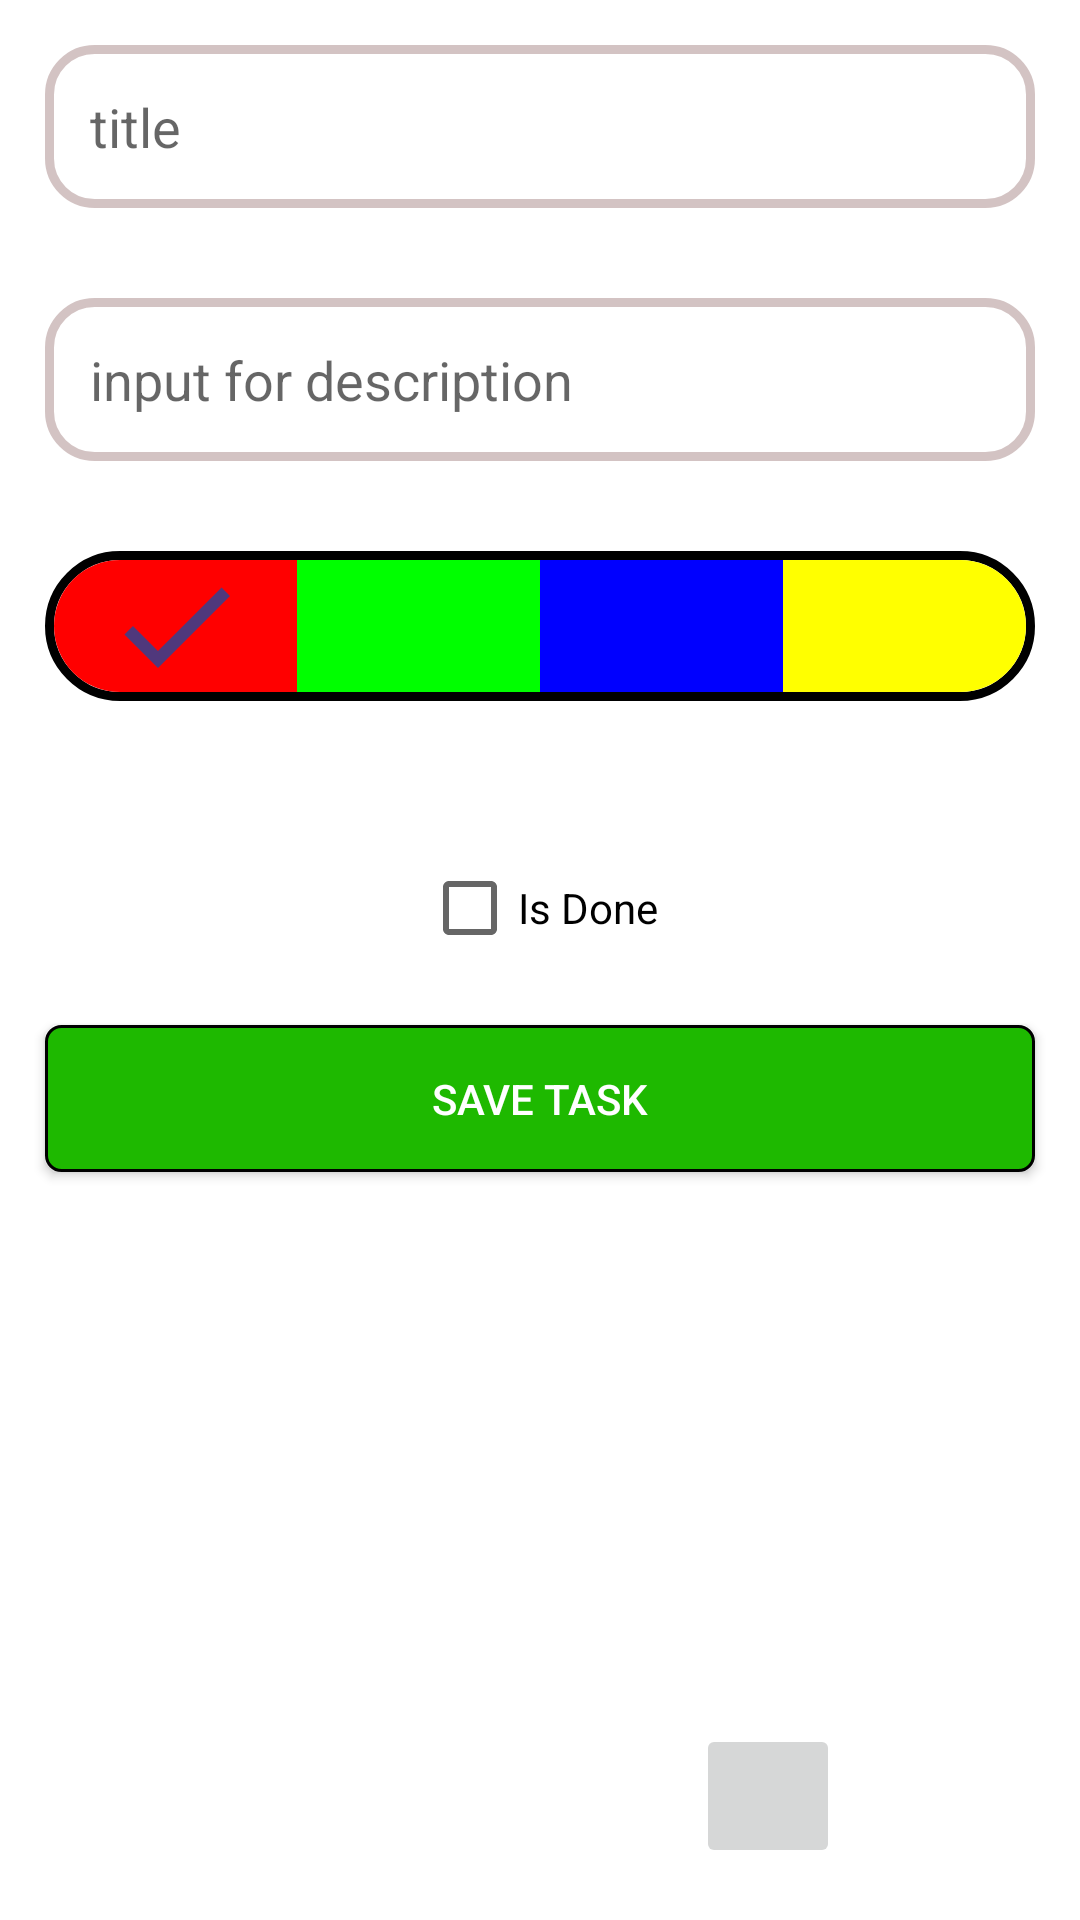

Icon bounding boxes for this 1080px×1920px phone screenshot, format [left=x1, top=y1, right=x2, bottom=y2]:
check: [left=54, top=560, right=297, bottom=692]
